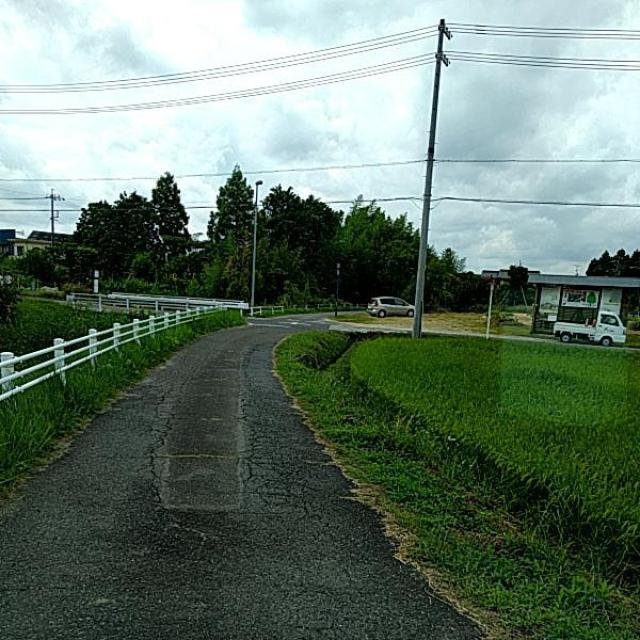Crack: (59, 323, 447, 640)
